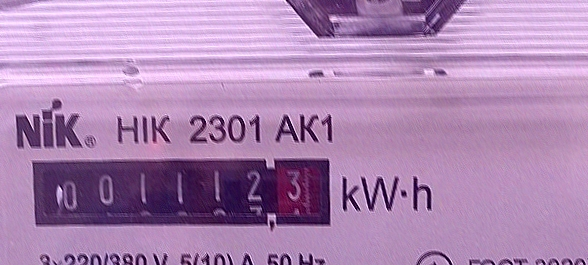0: (95, 169, 117, 208), (59, 176, 81, 211)
1: (134, 167, 153, 206), (172, 167, 187, 206), (210, 166, 225, 203)
2: (243, 167, 266, 203)
3: (284, 167, 303, 202)
screen: (24, 148, 339, 236)
